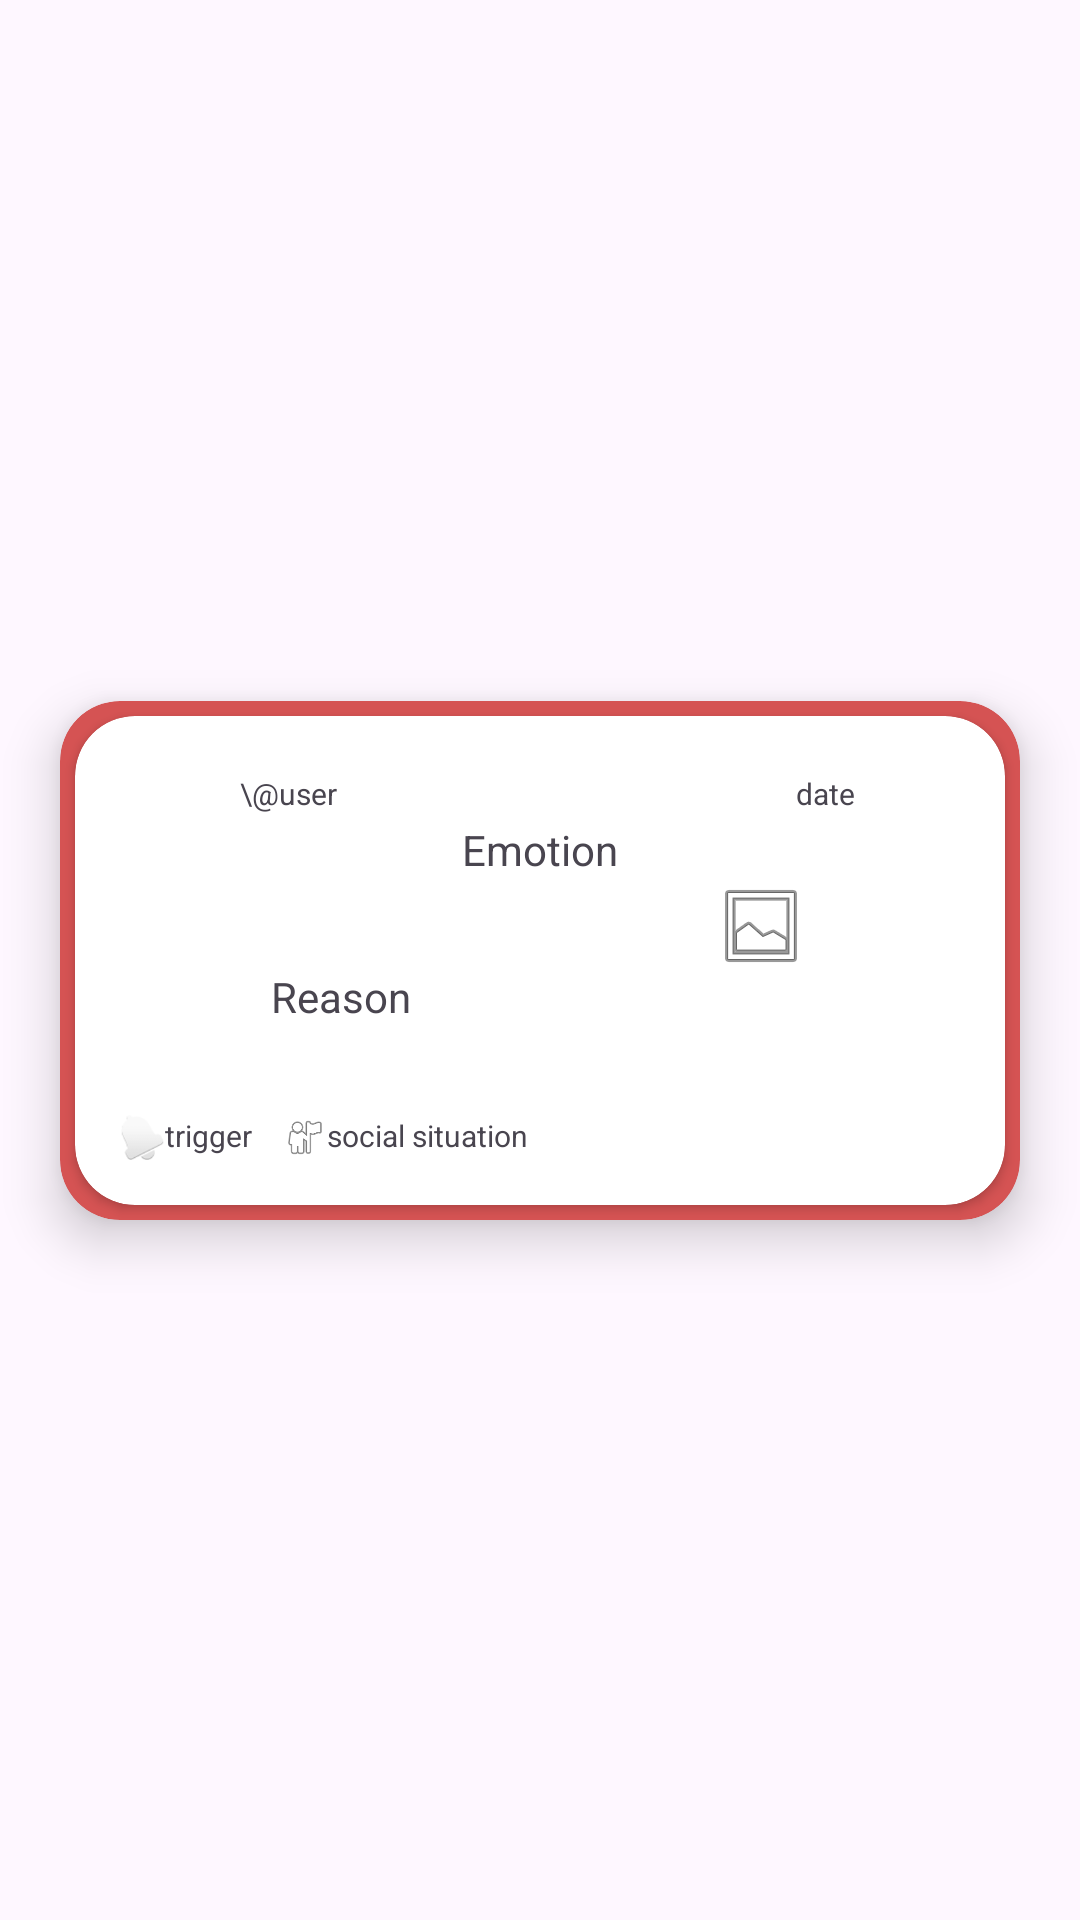

Screen size 1080×1920. Icon name, then its box in pixels as (x1, y1, x2, y2):
gallery: (725, 890, 797, 962)
